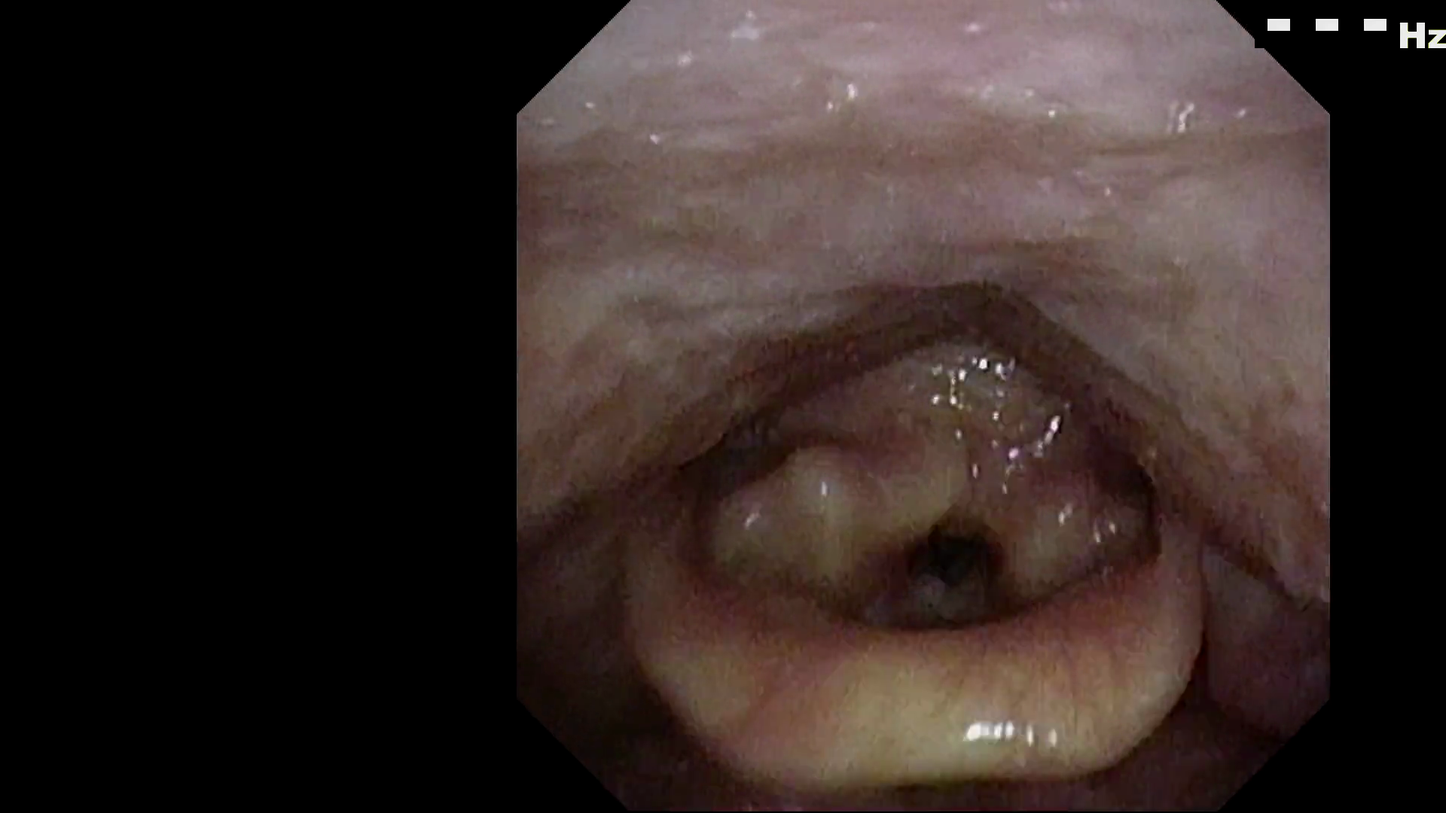epiglottis: (633, 528, 1213, 744)
trachea: (914, 536, 1007, 640)
